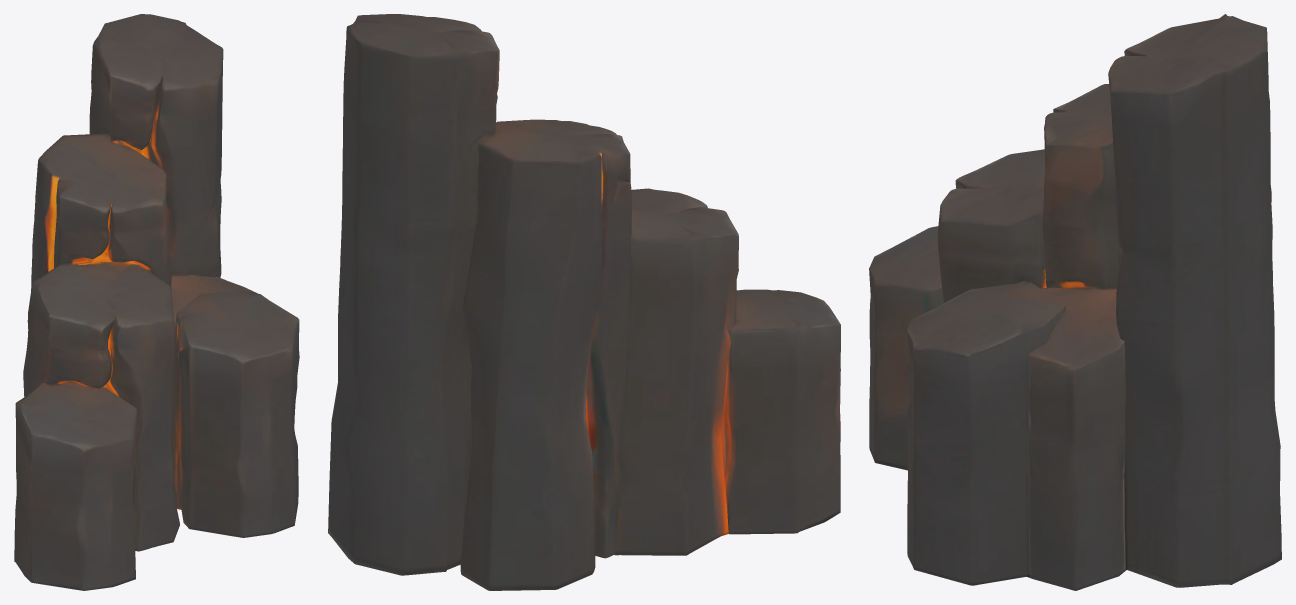
File: SM_Tripo_InfernoBasaltColumns.glb
3 renders of one model, left to right at view 1: azimuth 30°, elevation 25°; view 2: azimuth 150°, elevation 25°; view 3: azimuth 270°, elevation 25°, orthographic. The views are drawn at different scales.
Visible parts, largest first — view 1: SM_Tripo_InfernoBasaltColumns_LOD0; view 2: SM_Tripo_InfernoBasaltColumns_LOD0; view 3: SM_Tripo_InfernoBasaltColumns_LOD0.
Boxes of the visible parts, x1,y1,x2,y2 form: SM_Tripo_InfernoBasaltColumns_LOD0: [14, 14, 299, 590]; SM_Tripo_InfernoBasaltColumns_LOD0: [328, 14, 840, 590]; SM_Tripo_InfernoBasaltColumns_LOD0: [869, 14, 1281, 590].
Size of the model in its own units: 6.63 by 9 by 6.52.
1 material, 1 textured.
